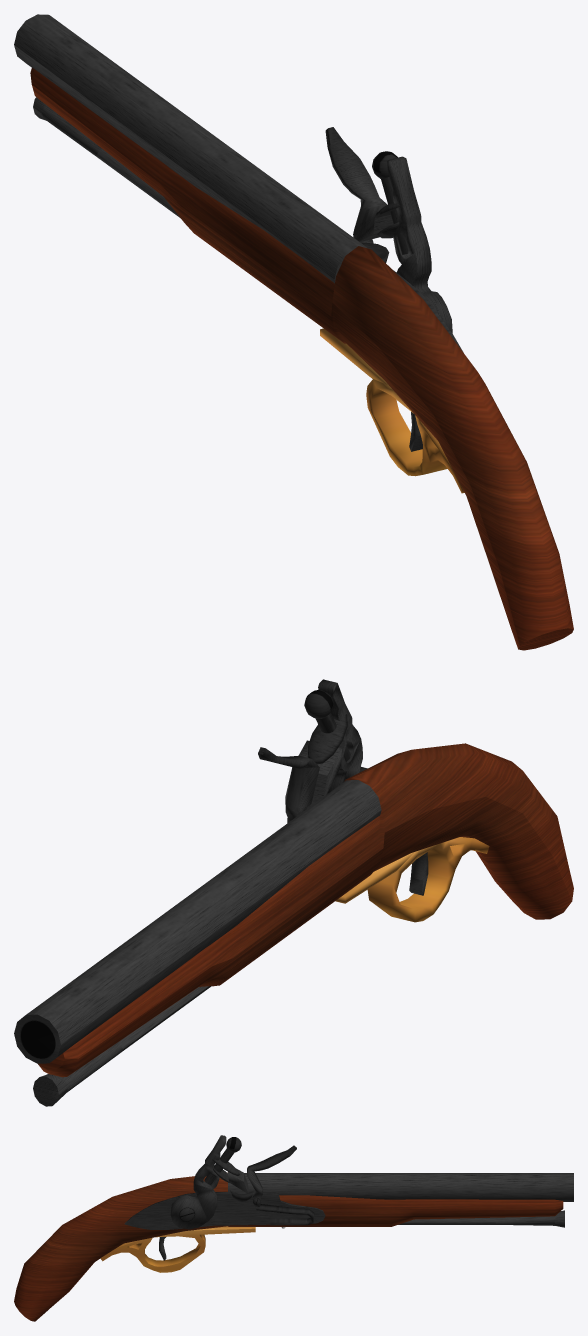
Rendered from pistolview_fire.fbx.
3 renders of one model, top to bottom at view 1: azimuth 30°, elevation 25°; view 2: azimuth 150°, elevation 25°; view 3: azimuth 270°, elevation 25°, orthographic. The views are drawn at different scales.
Visible parts, largest first — view 1: Cylinder02, Cylinder03, Regroup02, Regroup00, Box01, Cylinder06; view 2: Cylinder02, Cylinder03, Regroup02, Cylinder06, Box01, Regroup00, Sphere02, Box03, Sphere03, Box04; view 3: Cylinder02, Cylinder03, Regroup01, Regroup00, Regroup02, Cylinder06, Box01, Box02, Box03, Cylinder01.
Boxes of the visible parts, left/top/right/bottom form: Cylinder02: left=30, top=68, right=573, bottom=650; Cylinder03: left=14, top=14, right=367, bottom=283; Regroup02: left=320, top=328, right=464, bottom=493; Regroup00: left=387, top=156, right=452, bottom=333; Box01: left=325, top=127, right=387, bottom=243; Cylinder06: left=33, top=97, right=180, bottom=218; Cylinder02: left=38, top=743, right=573, bottom=1077; Cylinder03: left=14, top=780, right=381, bottom=1063; Regroup02: left=335, top=837, right=489, bottom=922; Cylinder06: left=33, top=986, right=211, bottom=1106; Box01: left=258, top=747, right=319, bottom=823; Regroup00: left=318, top=679, right=367, bottom=792; Sphere02: left=307, top=710, right=347, bottom=764; Box03: left=292, top=740, right=341, bottom=800; Sphere03: left=304, top=690, right=333, bottom=718; Box04: left=409, top=852, right=428, bottom=895; Cylinder02: left=14, top=1172, right=563, bottom=1321; Cylinder03: left=228, top=1173, right=573, bottom=1201; Regroup01: left=124, top=1192, right=325, bottom=1229; Regroup00: left=170, top=1135, right=226, bottom=1229; Regroup02: left=100, top=1226, right=255, bottom=1272; Cylinder06: left=398, top=1210, right=564, bottom=1227; Box01: left=247, top=1145, right=296, bottom=1206; Box02: left=256, top=1204, right=314, bottom=1225; Box03: left=228, top=1169, right=248, bottom=1193; Cylinder01: left=204, top=1148, right=233, bottom=1184.
Bounding box in the file's own units: 1.23 × 5.4 × 14.31.
Materials: 2 (1 with a texture image).
